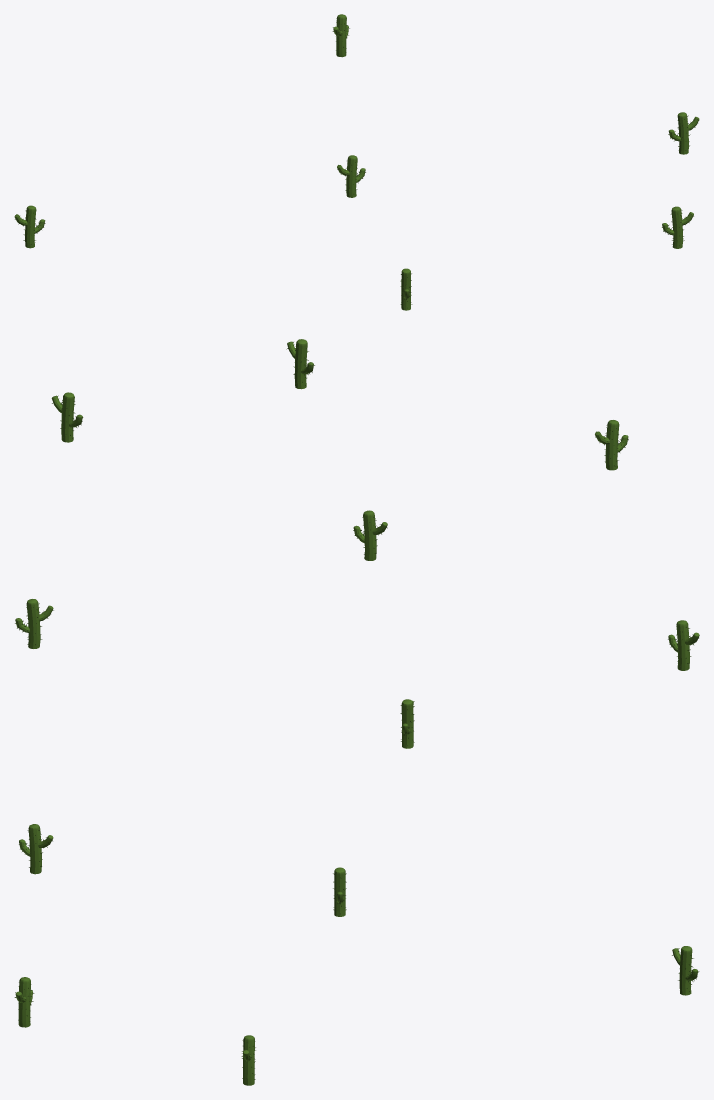
The model's file is WideCactusGroup.fbx.
3 views of the same model, one above another, from view 1: azimuth 30°, elevation 25°; view 2: azimuth 150°, elevation 25°; view 3: azimuth 270°, elevation 25° (orthographic). The views are drawn at different scales.
Parts seen in each view (by area): view 1: WideCactusGroup; view 2: WideCactusGroup; view 3: WideCactusGroup.
Boxes of the visible parts, x1,y1,x2,y2 form: WideCactusGroup: [14, 14, 699, 310]; WideCactusGroup: [15, 339, 699, 670]; WideCactusGroup: [14, 699, 699, 1085].
Bounding box in the file's own units: 211 × 12.95 × 173.
Materials: 1 (1 with a texture image).
